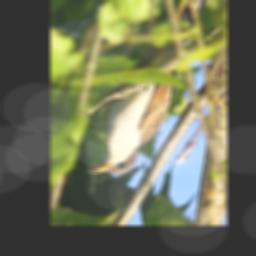Cuckoo: (87, 0, 212, 179)
